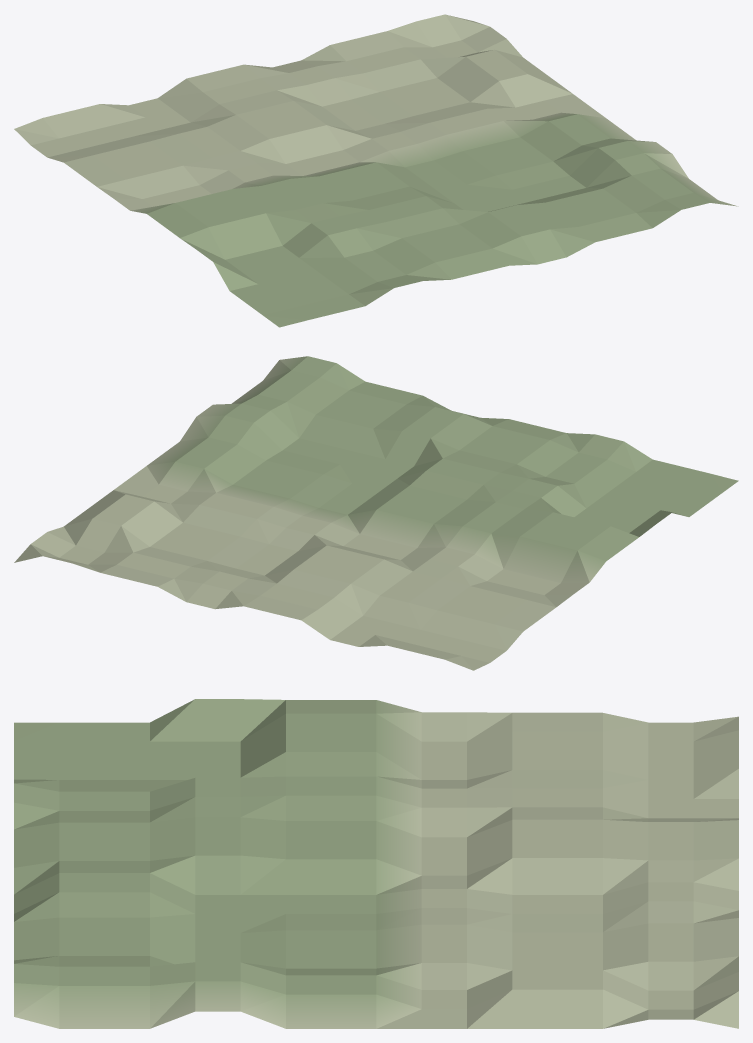
3 renders of one model, top to bottom at view 1: azimuth 30°, elevation 25°; view 2: azimuth 150°, elevation 25°; view 3: azimuth 270°, elevation 25°, orthographic. The views are drawn at different scales.
Size of the model in its own units: 32 by 1.38 by 32.
